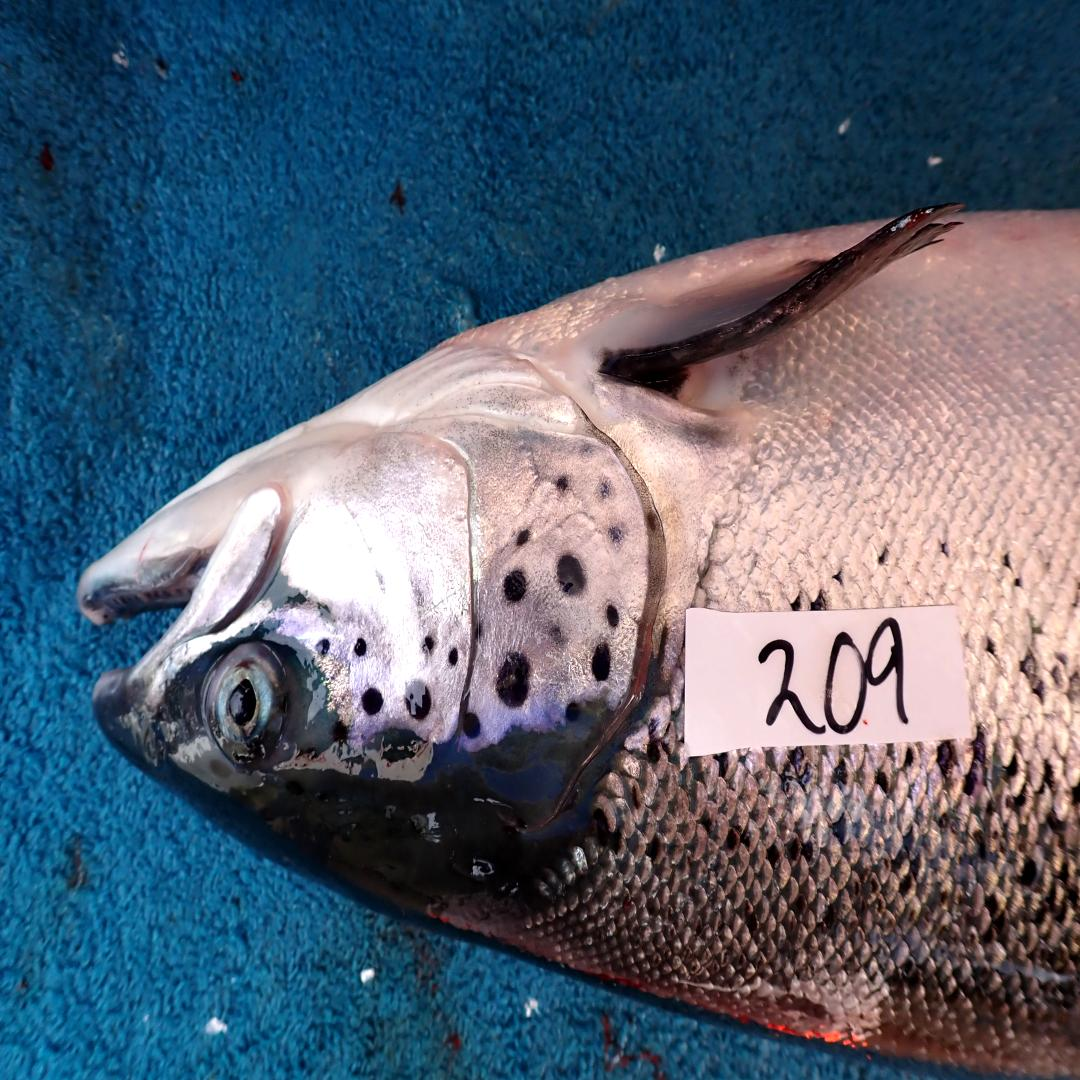roi: (288, 331, 660, 752)
